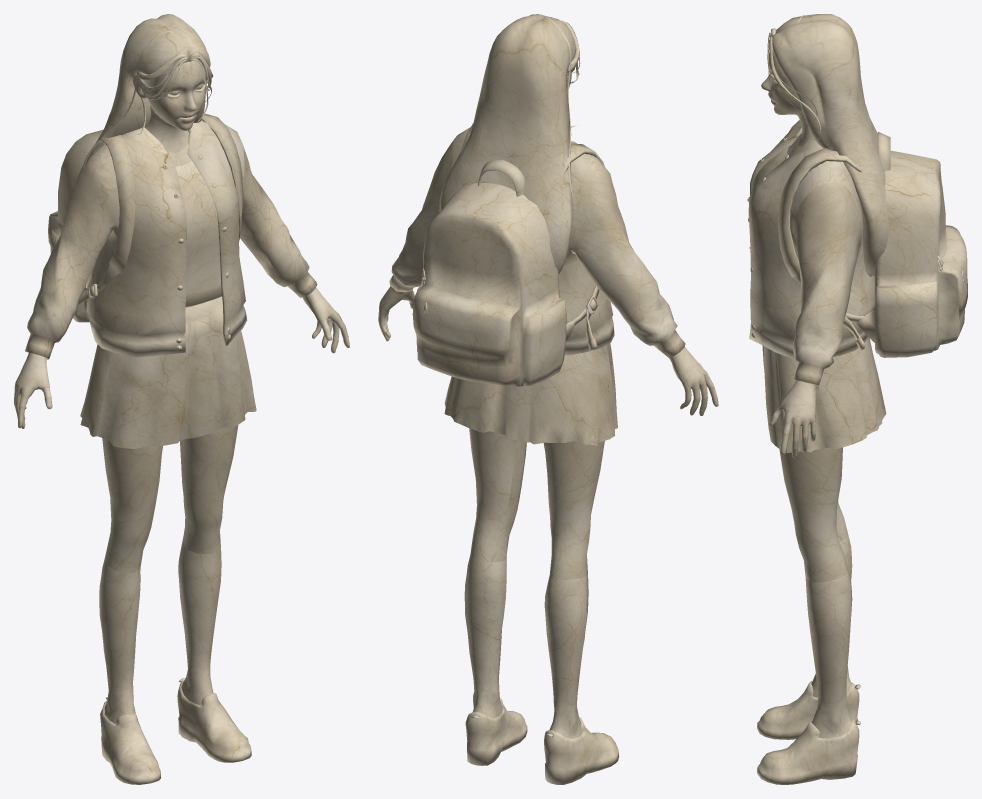
Rendered from Sample_Avatar_W_001.fbx.
3 renders of one model, left to right at view 1: azimuth 30°, elevation 25°; view 2: azimuth 150°, elevation 25°; view 3: azimuth 270°, elevation 25°, orthographic.
Visible parts, largest first — view 1: Sample_Avatar_W_001; view 2: Sample_Avatar_W_001; view 3: Sample_Avatar_W_001.
Part boxes in pixels (x1=…): Sample_Avatar_W_001: x1=14, y1=14, x2=349, y2=784; Sample_Avatar_W_001: x1=378, y1=14, x2=718, y2=784; Sample_Avatar_W_001: x1=747, y1=14, x2=967, y2=784.
Bounding box in the file's own units: 0.8135 × 1.72 × 0.4676.
